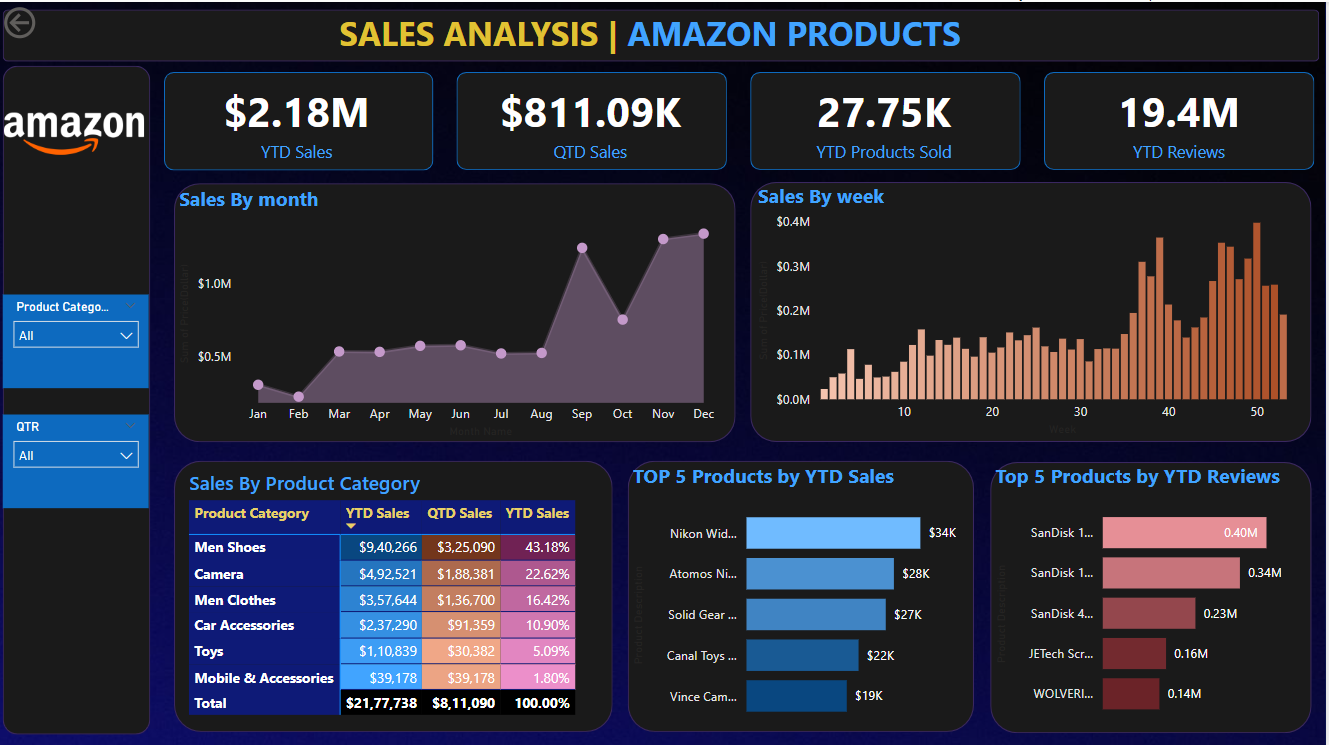

This screenshot's page, from the dashboard's own definition file:
{"tool":"powerbi","page":{"name":"Page 1","canvas":[1280,720],"ordinal":0},"visuals":[{"type":"shape","box":[3.6,61.5,142.4,645.4],"z":0},{"type":"shape","box":[4.1,6.8,1270.8,50.3],"z":1000},{"type":"textbox","box":[323.5,4.1,633.3,57.1],"z":2000},{"type":"shape","box":[159,67.6,260,95],"z":3000},{"type":"actionButton","box":[0,0,100,40],"z":4000},{"type":"shape","box":[441.3,67.6,261.1,94.6],"z":5000},{"type":"card","fields":{"Values":["Amazon_Data.YTD Sales"]},"box":[157.1,69,261.1,94.6],"z":6000},{"type":"shape","box":[724.7,67.6,261.1,94.6],"z":7000},{"type":"shape","box":[1008,67.6,261.1,94.6],"z":8000},{"type":"card","fields":{"Values":["Amazon_Data.QTD Sales"]},"box":[440.7,69,261.1,94.6],"z":9000},{"type":"card","fields":{"Values":["Amazon_Data.YTD Products Sold"]},"box":[724.4,69,261.1,94.6],"z":10000},{"type":"shape","box":[168.9,174.9,542,250],"z":11000},{"type":"card","fields":{"Values":["Amazon_Data.YTD Reviews"]},"box":[1008,69,261.1,94.6],"z":12000},{"type":"areaChart","title":"Sales By month","fields":{"Category":["Date Table.Month Name"],"Y":["Sum(Amazon_Data.Price(Dollar))"]},"box":[168.9,177.3,532,248.5],"z":13000},{"type":"shape","box":[168.9,442.8,423.5,261.8],"z":14000},{"type":"shape","box":[725.1,173.7,541.7,250.9],"z":15000},{"type":"columnChart","title":"Sales By week","fields":{"Category":["Date Table.Week"],"Y":["Sum(Amazon_Data.Price(Dollar))"]},"box":[727.5,173.7,541.7,249.7],"z":16000},{"type":"shape","box":[606.8,442.8,334.2,261.8],"z":17000},{"type":"shape","box":[956.7,444,310.1,261.8],"z":18000},{"type":"pivotTable","title":"Sales By Product Category","fields":{"Rows":["Amazon_Data.Product Category"],"Values":["Amazon_Data.YTD Sales1","Amazon_Data.QTD Sales","Amazon_Data.YTD Sales"]},"box":[178.6,451.2,401.7,244.9],"z":19000},{"type":"clusteredBarChart","title":"TOP 5 Products by YTD Sales","fields":{"Category":["Amazon_Data.Product Description"],"Y":["Amazon_Data.YTD Sales"]},"box":[606.8,444,334.2,263],"z":20000},{"type":"clusteredBarChart","title":"Top 5 Products by YTD Reviews","fields":{"Category":["Amazon_Data.Product Description"],"Y":["Amazon_Data.YTD Reviews"]},"box":[956.7,444,312.5,260.6],"z":21000},{"type":"slicer","fields":{"Values":["Amazon_Data.Product Category"]},"box":[3.6,282.3,141.2,90.5],"z":22000},{"type":"slicer","fields":{"Values":["Date Table.QTR"]},"box":[3.6,398.1,141.2,90.5],"z":23000},{"type":"image","box":[0,57.9,144.8,138.7],"z":23001}]}

Visuals, with their boxes in screenshot pixels (x1, y1, x2, y2), scaled from the page's 1280x720 canvas onto the 1329x745 screenshot:
shape: 4,64,152,731
shape: 4,7,1324,59
textbox: 336,4,993,63
shape: 165,70,435,168
actionButton: 0,0,104,41
shape: 458,70,729,168
card - Amazon_Data.YTD Sales: 163,71,434,169
shape: 752,70,1024,168
shape: 1047,70,1318,168
card - Amazon_Data.QTD Sales: 458,71,729,169
card - Amazon_Data.YTD Products Sold: 752,71,1023,169
shape: 175,181,738,440
card - Amazon_Data.YTD Reviews: 1047,71,1318,169
"Sales By month" areaChart: 175,183,728,441
shape: 175,458,615,729
shape: 753,180,1315,439
"Sales By week" columnChart: 755,180,1318,438
shape: 630,458,977,729
shape: 993,459,1315,730
"Sales By Product Category" pivotTable: 185,467,603,720
"TOP 5 Products by YTD Sales" clusteredBarChart: 630,459,977,732
"Top 5 Products by YTD Reviews" clusteredBarChart: 993,459,1318,729
slicer - Amazon_Data.Product Category: 4,292,150,386
slicer - Date Table.QTR: 4,412,150,506
image: 0,60,150,203
